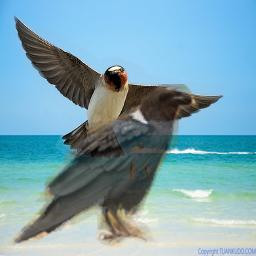Crow: (8, 84, 199, 253)
Swallow: (11, 13, 224, 159)
